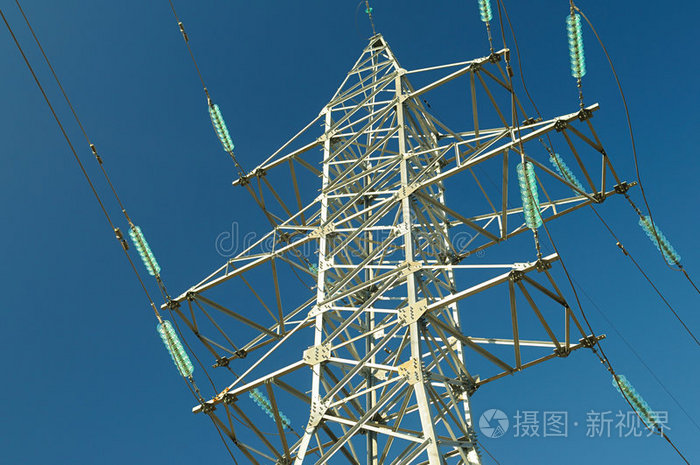insulator: (613, 372, 660, 427), (155, 320, 195, 378), (640, 214, 679, 267), (516, 159, 542, 231), (249, 390, 291, 431), (129, 226, 160, 276), (567, 11, 589, 78), (206, 103, 236, 151), (550, 155, 587, 193), (476, 1, 493, 25)
